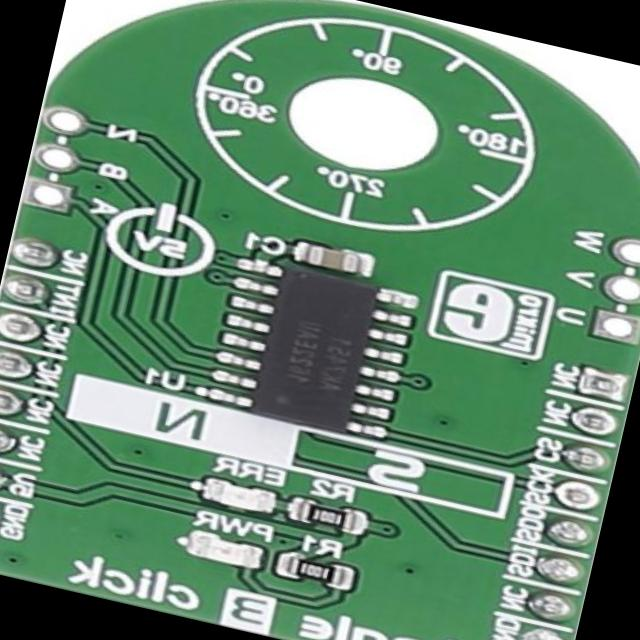IC: (218, 256, 400, 438)
LED: (182, 530, 257, 572), (200, 478, 268, 518)
capacitor: (290, 240, 366, 277)
resistor: (282, 554, 341, 590), (296, 501, 356, 535)
